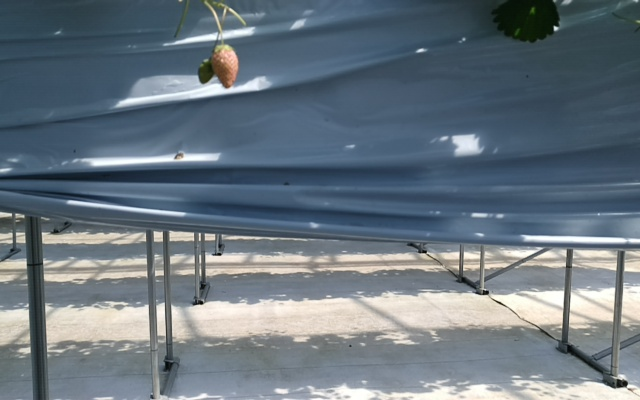GreenStrawberry: (211, 47, 239, 91), (197, 57, 214, 85)
